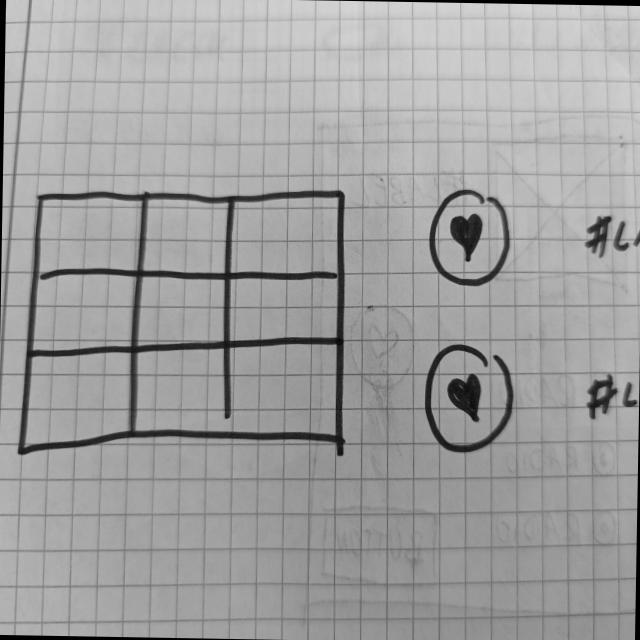icon-button: (422, 339, 520, 458), (425, 184, 516, 289)
label: (582, 210, 640, 263), (581, 370, 640, 422)
table: (16, 180, 353, 467)
